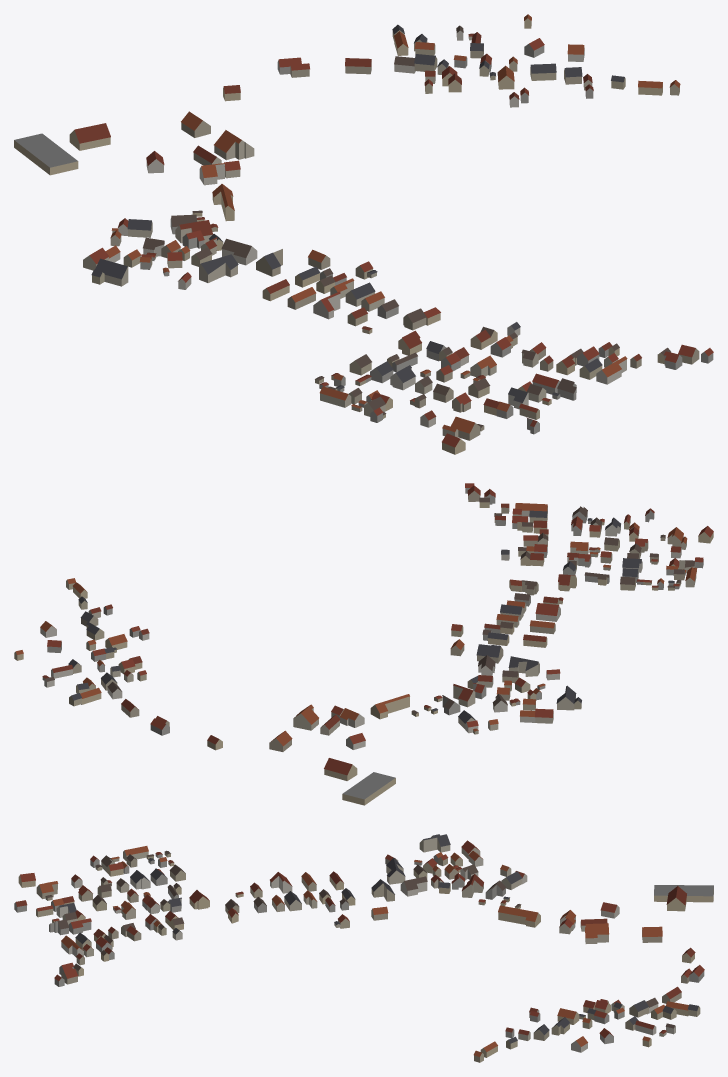
3 views of the same model, one above another, from view 1: azimuth 30°, elevation 25°; view 2: azimuth 150°, elevation 25°; view 3: azimuth 270°, elevation 25° (orthographic). The views are drawn at different scales.
Parts seen in each view (by area): view 1: buildings; view 2: buildings; view 3: buildings.
Part boxes in pixels (box(x1,y1,x2,y2)): buildings: box(14, 14, 713, 454); buildings: box(14, 483, 713, 805); buildings: box(14, 834, 713, 1062).
Bounding box in the file's own units: 504 × 38.87 × 625.
